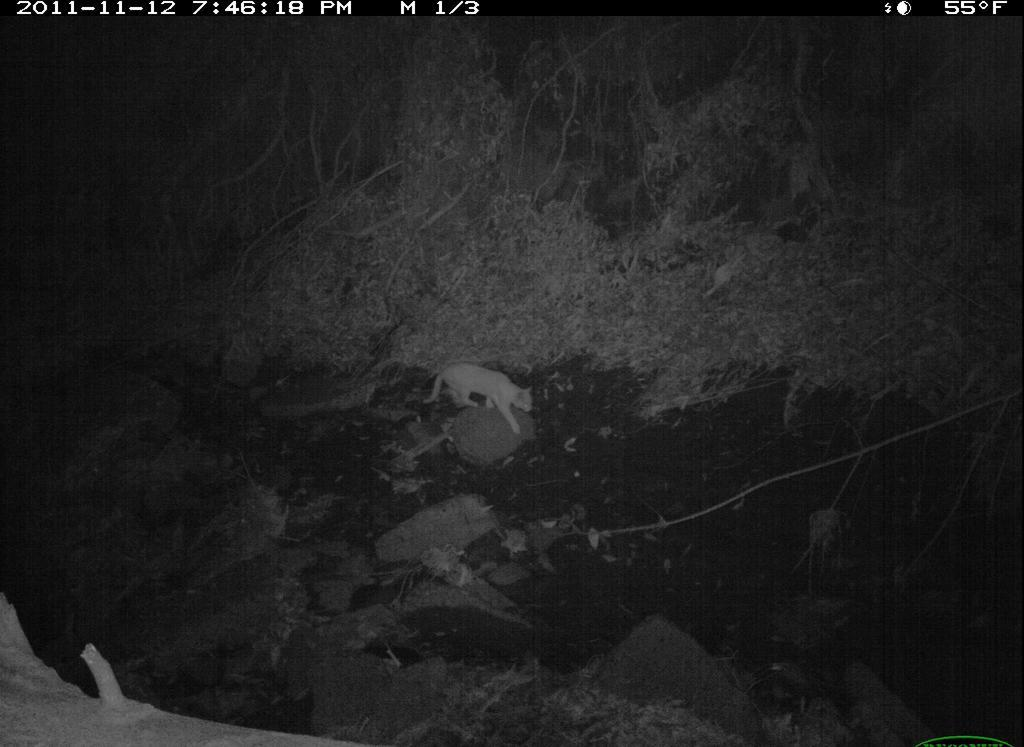cat: (415, 349, 553, 446)
